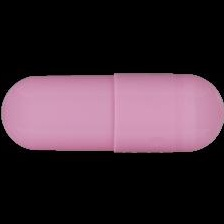68788-9269: (0, 0, 224, 224)
